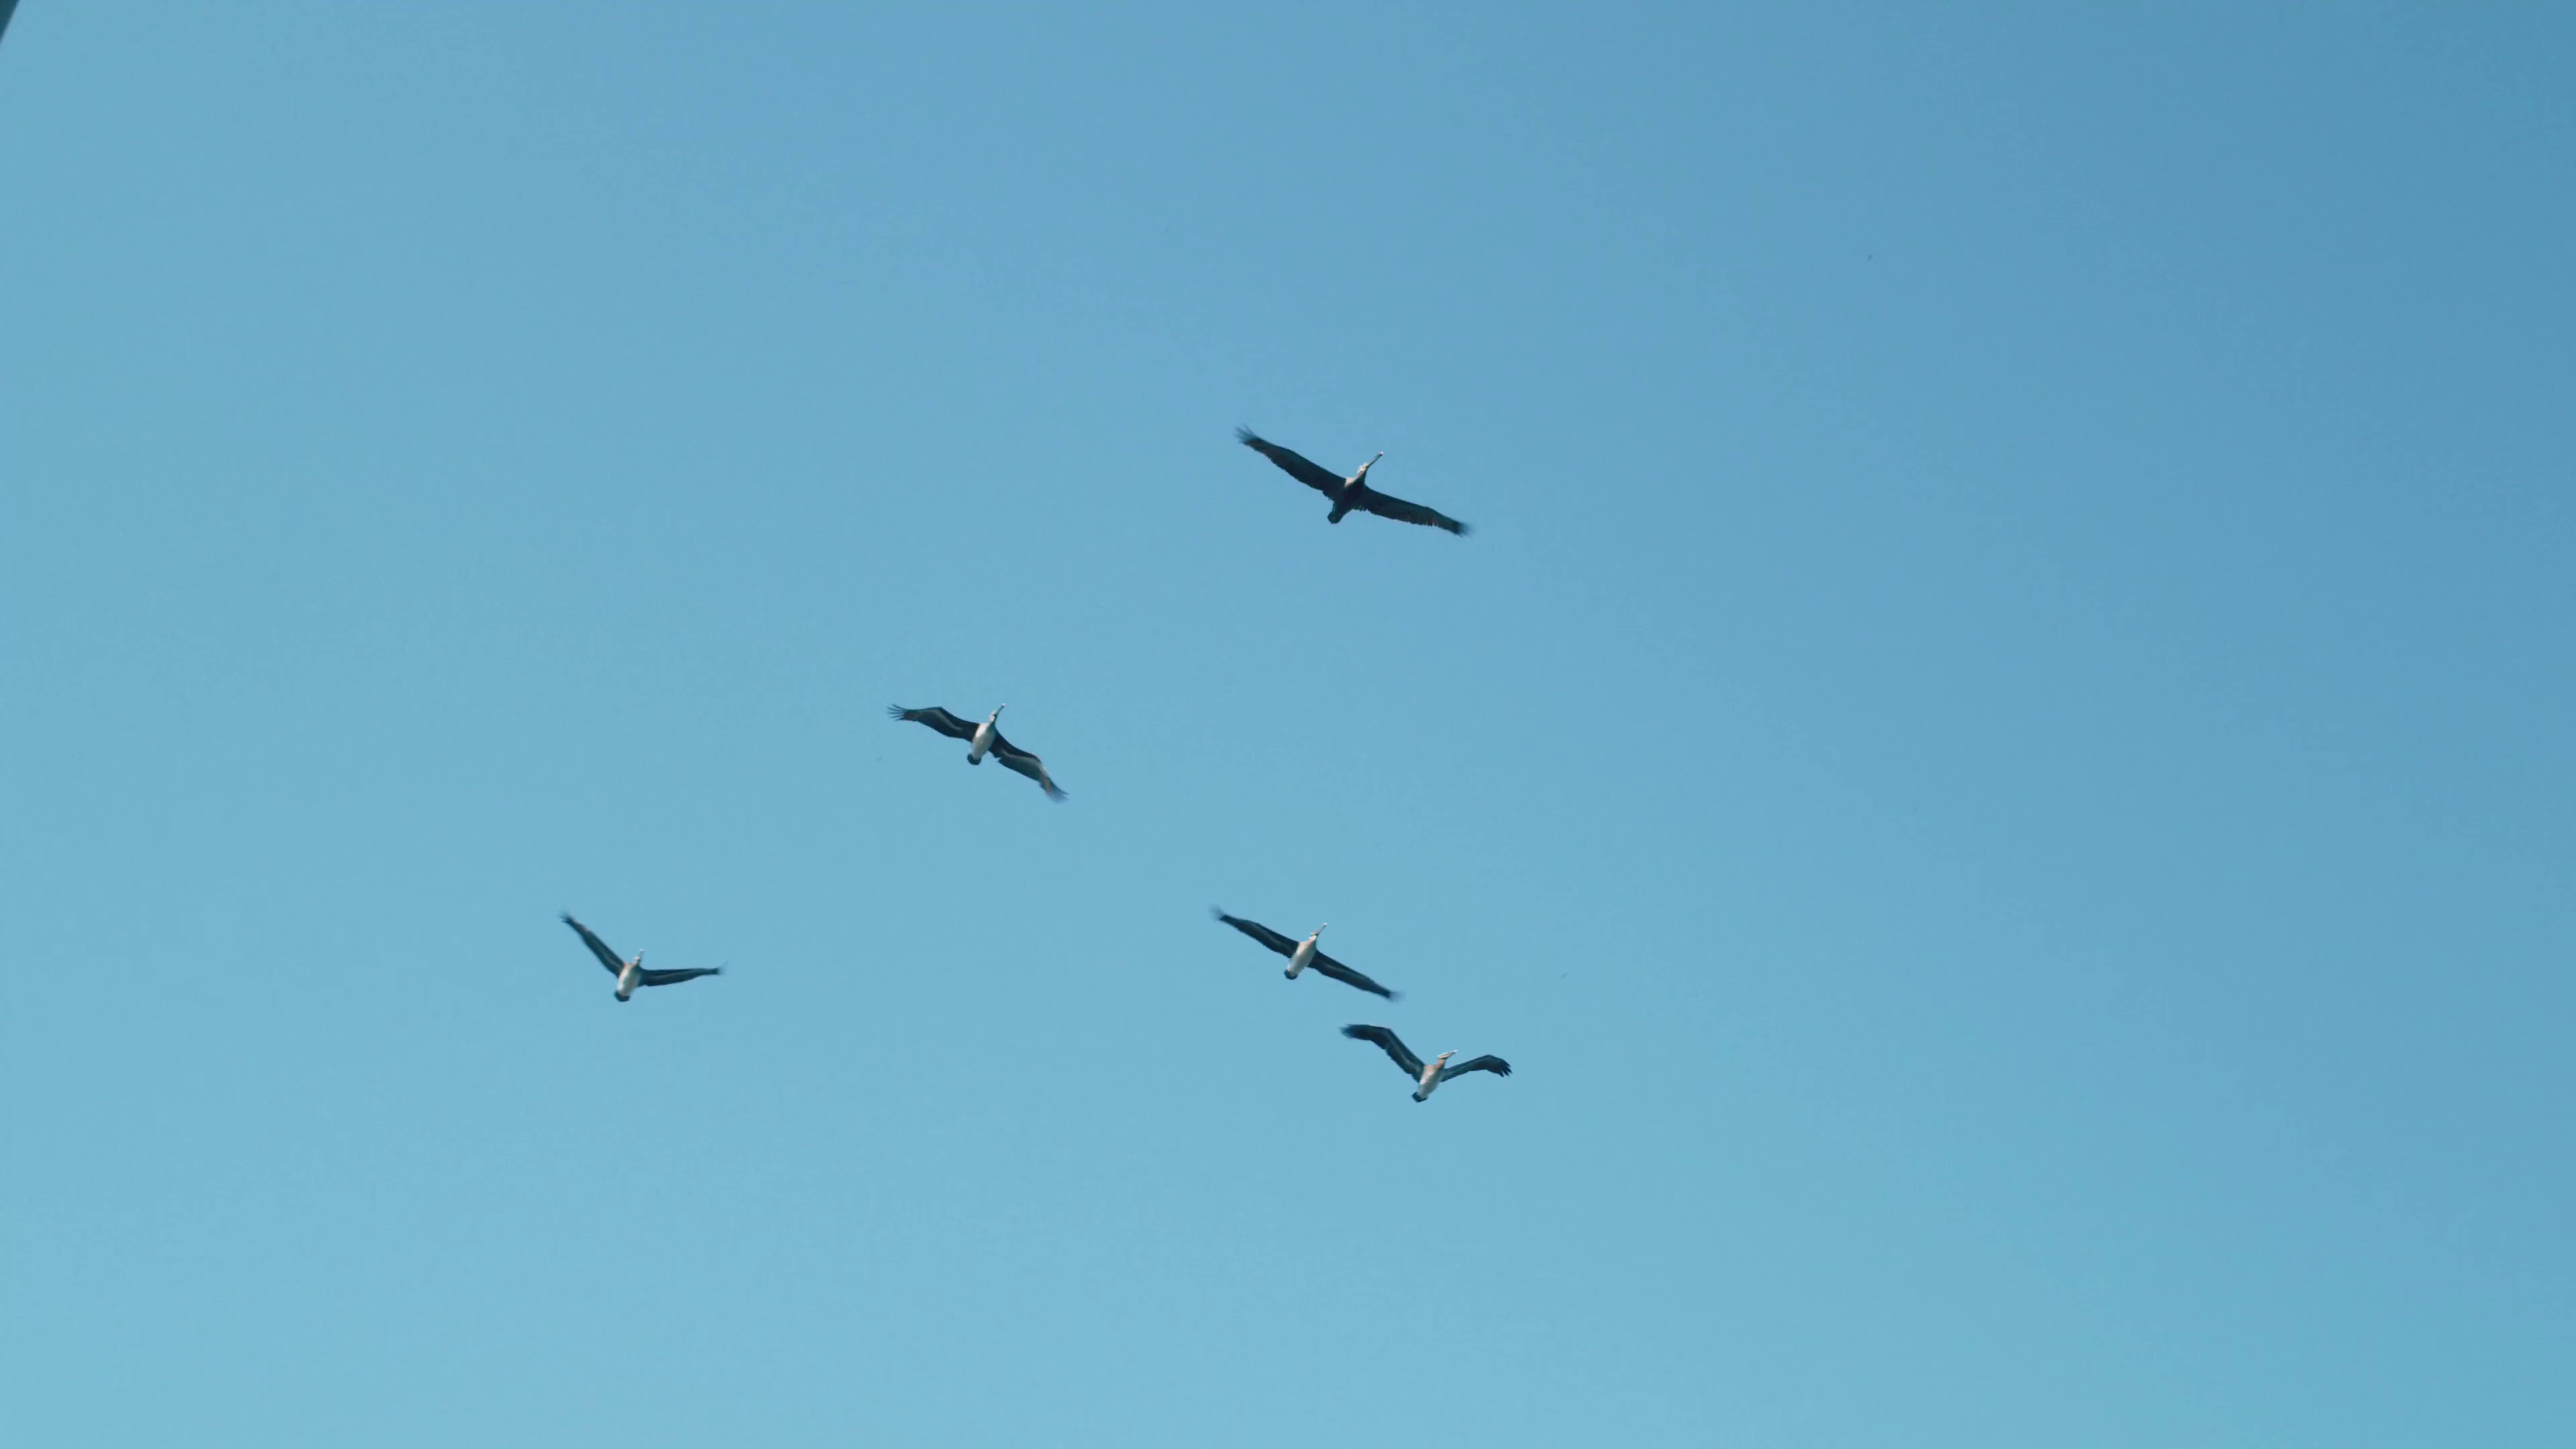bird: (1238, 421, 1465, 543), (888, 690, 1069, 801), (1215, 904, 1396, 1007), (564, 911, 722, 1001), (1341, 1016, 1511, 1099)
